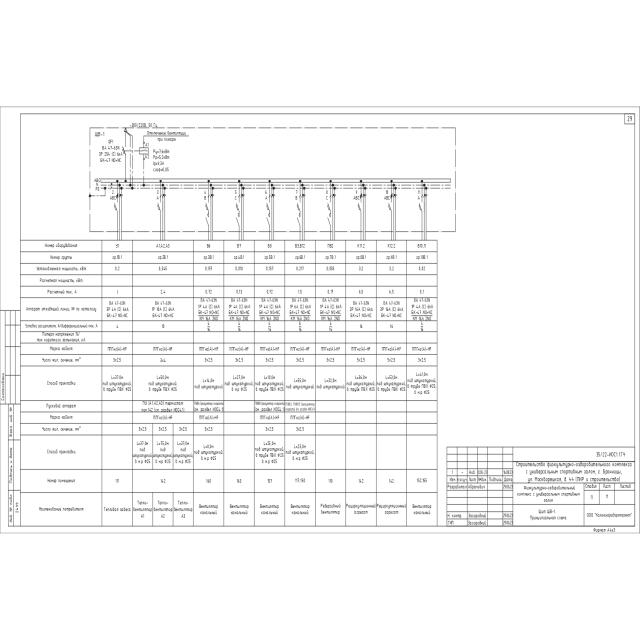-: (223, 296, 254, 322), (284, 296, 315, 322), (315, 296, 346, 322), (193, 296, 224, 322), (101, 297, 132, 322), (149, 297, 180, 322), (346, 296, 377, 321), (254, 297, 284, 322), (407, 297, 437, 322), (377, 297, 407, 322), (97, 145, 123, 163), (94, 130, 105, 138), (353, 190, 360, 200), (383, 190, 390, 200), (110, 190, 116, 200), (234, 189, 238, 201), (204, 190, 208, 202), (294, 189, 298, 201), (156, 189, 160, 201), (417, 188, 421, 200), (264, 189, 268, 201), (326, 189, 330, 201)
KM: (327, 212, 332, 227), (205, 212, 210, 226), (236, 212, 240, 227), (297, 212, 301, 226), (267, 212, 271, 226)
QF: (326, 199, 332, 212), (235, 199, 241, 212), (204, 199, 210, 211), (156, 200, 162, 212), (296, 199, 302, 211), (388, 198, 393, 211), (357, 200, 362, 213), (122, 144, 127, 157), (418, 200, 423, 212), (266, 199, 271, 211), (114, 199, 118, 212)
